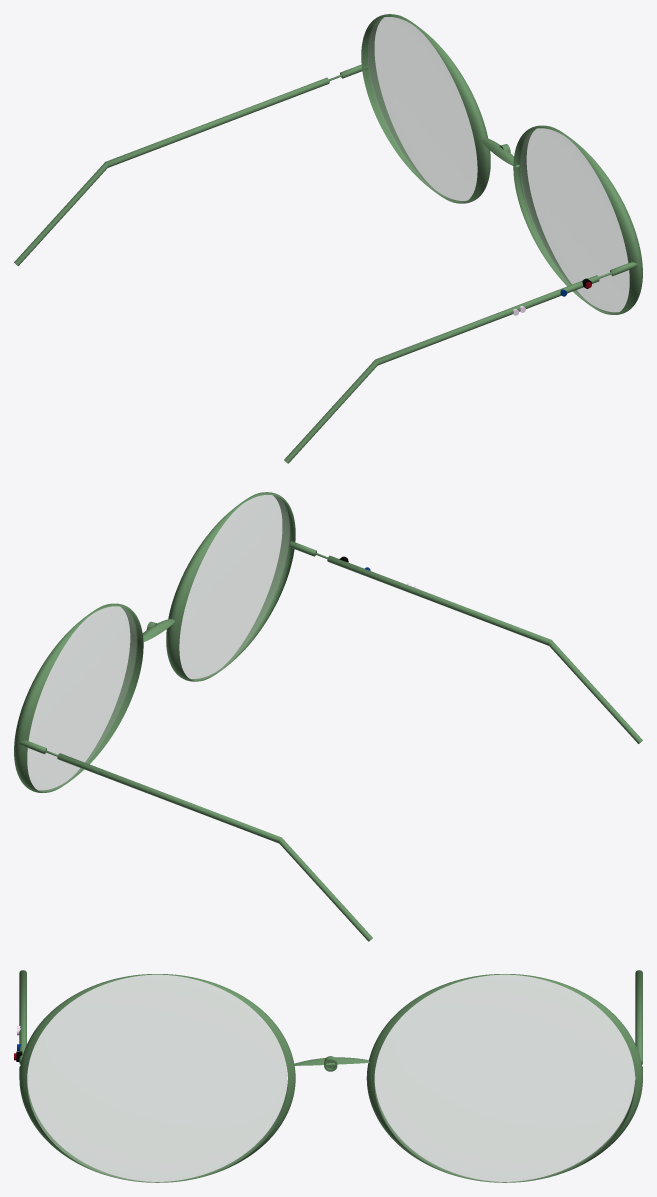
File: groen.glb
The picture shows the model from 3 angles, top to bottom: view 1: azimuth 30°, elevation 25°; view 2: azimuth 150°, elevation 25°; view 3: azimuth 270°, elevation 25°; orthographic projection. The views are drawn at different scales.
Parts seen in each view (by area): view 1: Sphere.017, Sphere.018, Sphere.003, Sphere, Cylinder.003, Cylinder.004; view 2: Sphere.018, Sphere.017, Sphere, Sphere.003, Cylinder.004, Cylinder.003; view 3: Sphere.018, Sphere.017, Sphere, Sphere.003, Cylinder.003, Cylinder.004, Sphere.008.
Boxes of the visible parts, x1=… form: Sphere.017: x1=368, y1=17, x2=477, y2=201; Sphere.018: x1=520, y1=128, x2=629, y2=313; Sphere.003: x1=361, y1=14, x2=490, y2=203; Sphere: x1=513, y1=125, x2=642, y2=314; Cylinder.003: x1=14, y1=64, x2=367, y2=265; Cylinder.004: x1=284, y1=262, x2=637, y2=463; Sphere.018: x1=179, y1=495, x2=289, y2=679; Sphere.017: x1=27, y1=606, x2=137, y2=790; Sphere: x1=166, y1=492, x2=295, y2=681; Sphere.003: x1=14, y1=603, x2=143, y2=792; Cylinder.004: x1=289, y1=541, x2=642, y2=743; Cylinder.003: x1=19, y1=740, x2=372, y2=941; Sphere.018: x1=27, y1=975, x2=286, y2=1181; Sphere.017: x1=375, y1=975, x2=634, y2=1181; Sphere: x1=19, y1=974, x2=295, y2=1182; Sphere.003: x1=366, y1=974, x2=642, y2=1182; Cylinder.003: x1=635, y1=970, x2=642, y2=1072; Cylinder.004: x1=19, y1=970, x2=26, y2=1075; Sphere.008: x1=294, y1=1057, x2=369, y2=1065.
Bounding box in the file's own units: 3.9 × 2.05 × 5.1.
